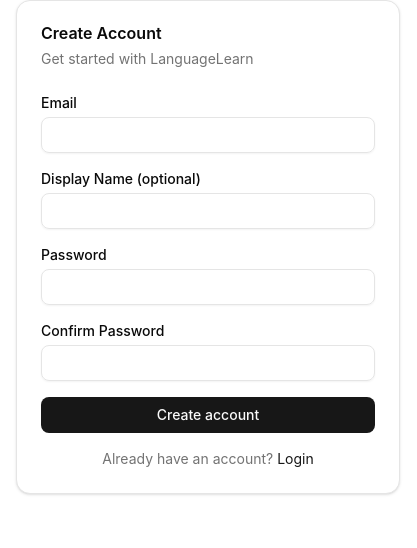
it: RegisterForm › shows error for mismatched passwords
Step 1. Type "test@example.com" into the field labelled "Email" → (208, 135), box [41,117,375,153]
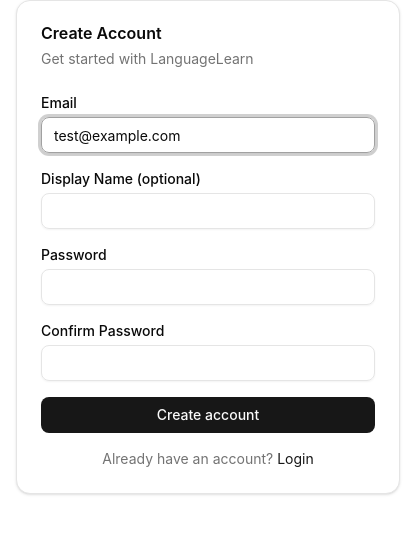
Step 2. Type "password123" into the password field labelled "Password" → (208, 287), box [41,269,375,305]
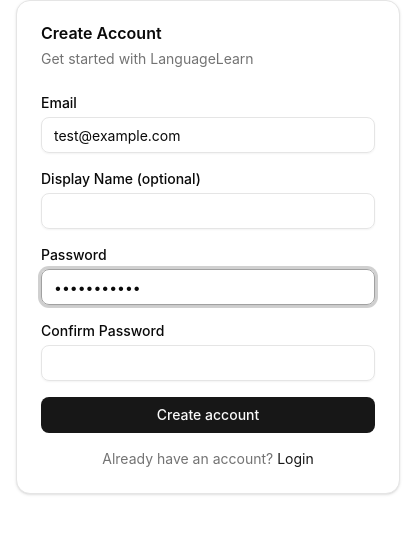
Step 3. Type "differentpass" into the password field labelled "Confirm Password" → (208, 363), box [41,345,375,381]
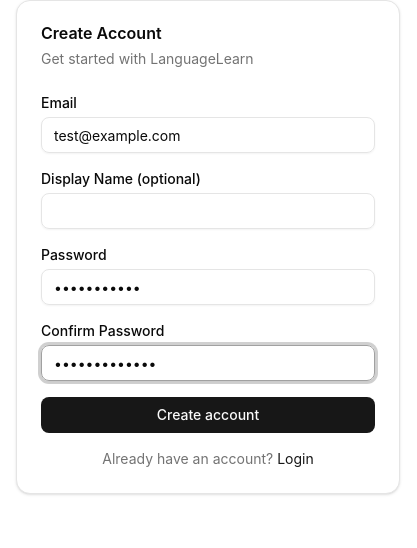
Step 4. Click the button "Create account" → (208, 415), box [41,397,375,433]
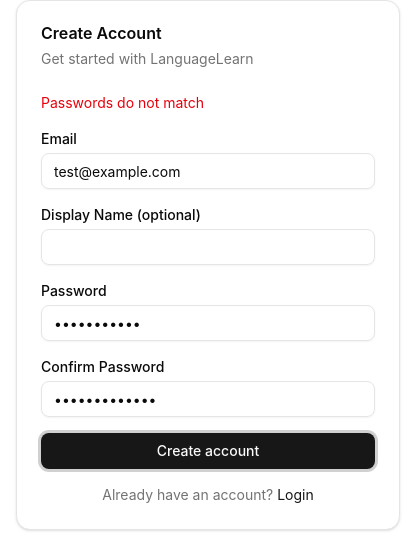
Result: the message shows "do not match" at [41,94,204,111]
